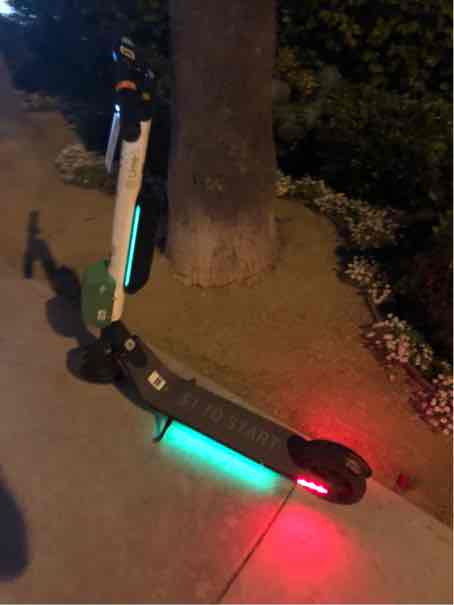scooter: (52, 9, 372, 510)
